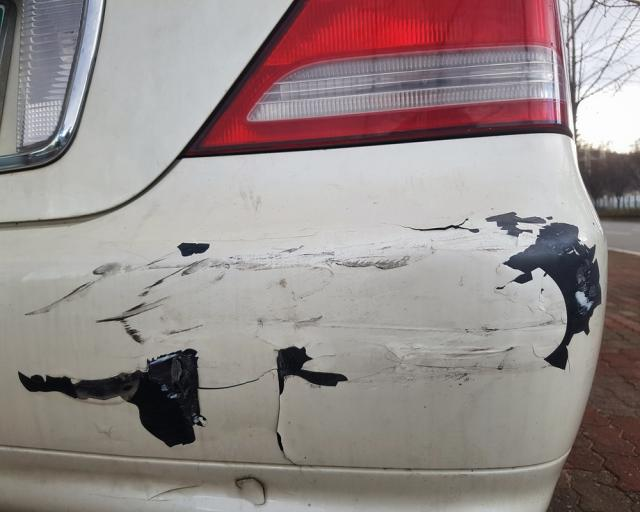crack: (16, 343, 349, 466), (381, 217, 480, 234)
scratch: (22, 208, 601, 386)
